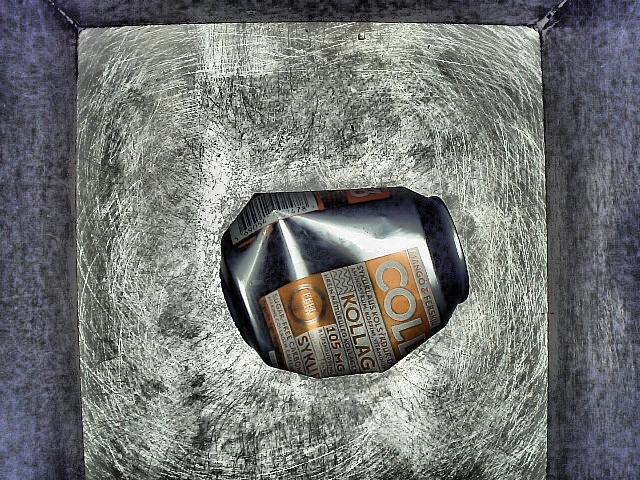Bottles: (190, 104, 467, 425)
